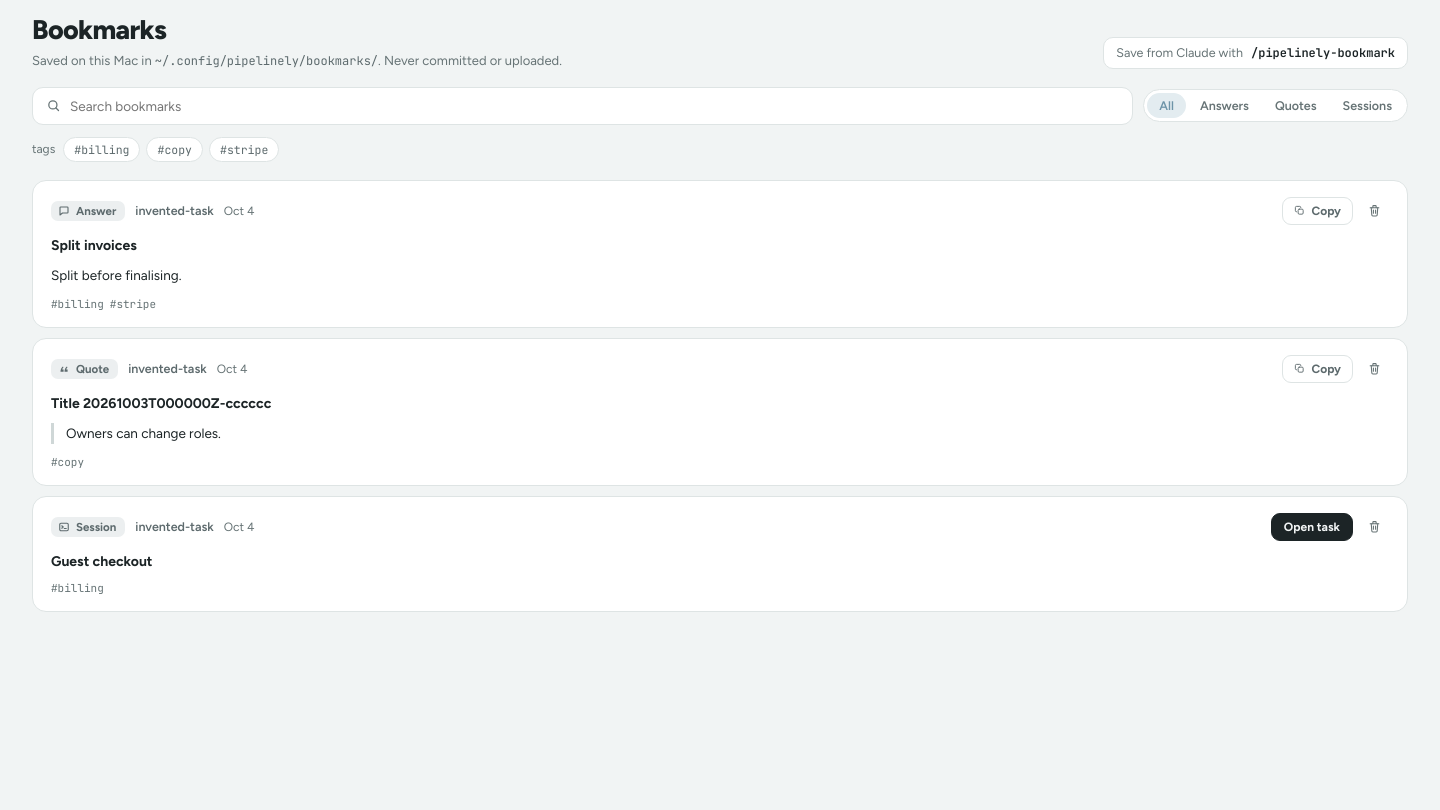
Test: BookmarksPage filters › kind, tags (all of them) and search combine
The image size is (1440, 810).
Click the button with test id "bookmarks-kind-filter-session". click: (1367, 106)
box: [1331,93,1404,118]
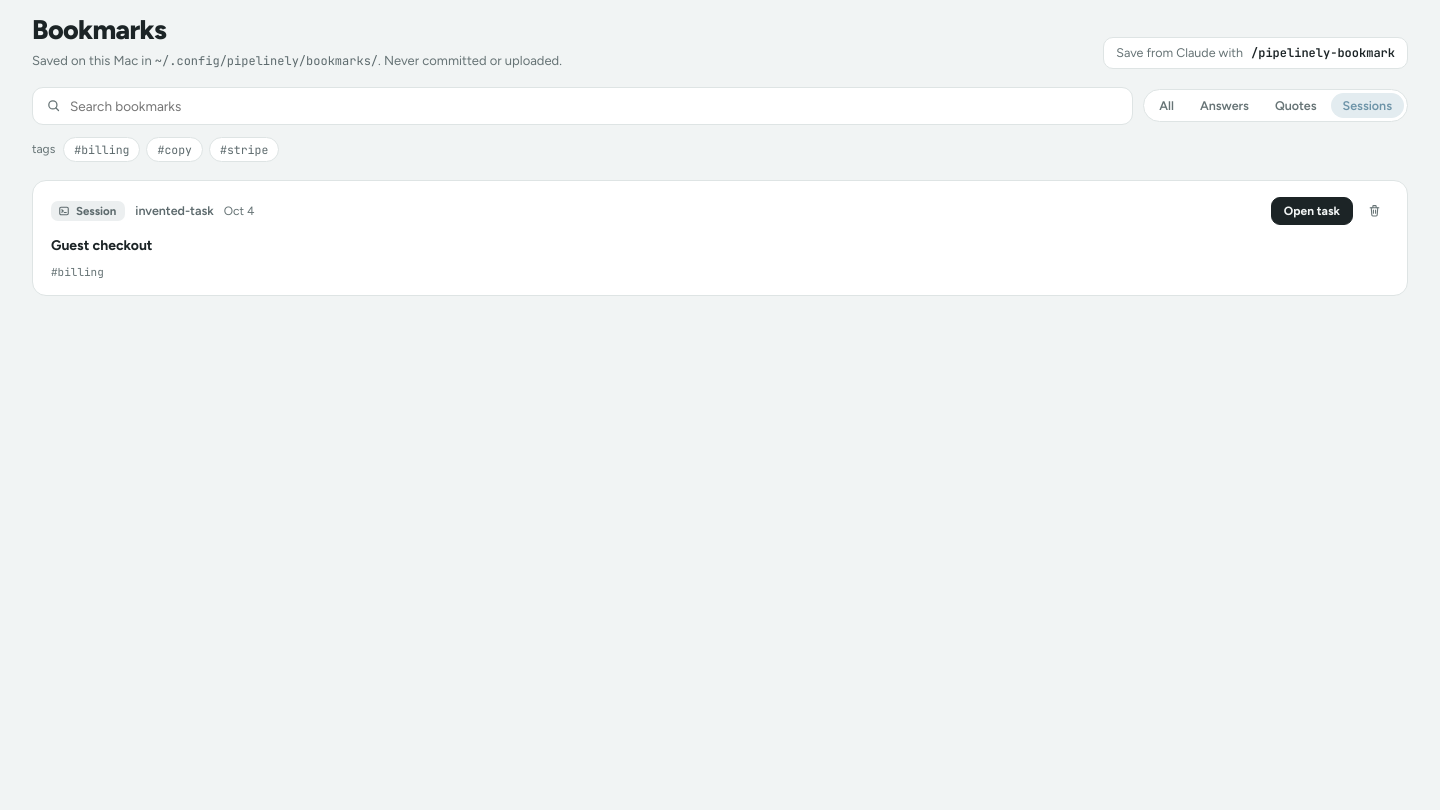
Click the button with test id "bookmarks-kind-filter-all". click: (1167, 106)
box: [1147,93,1186,118]
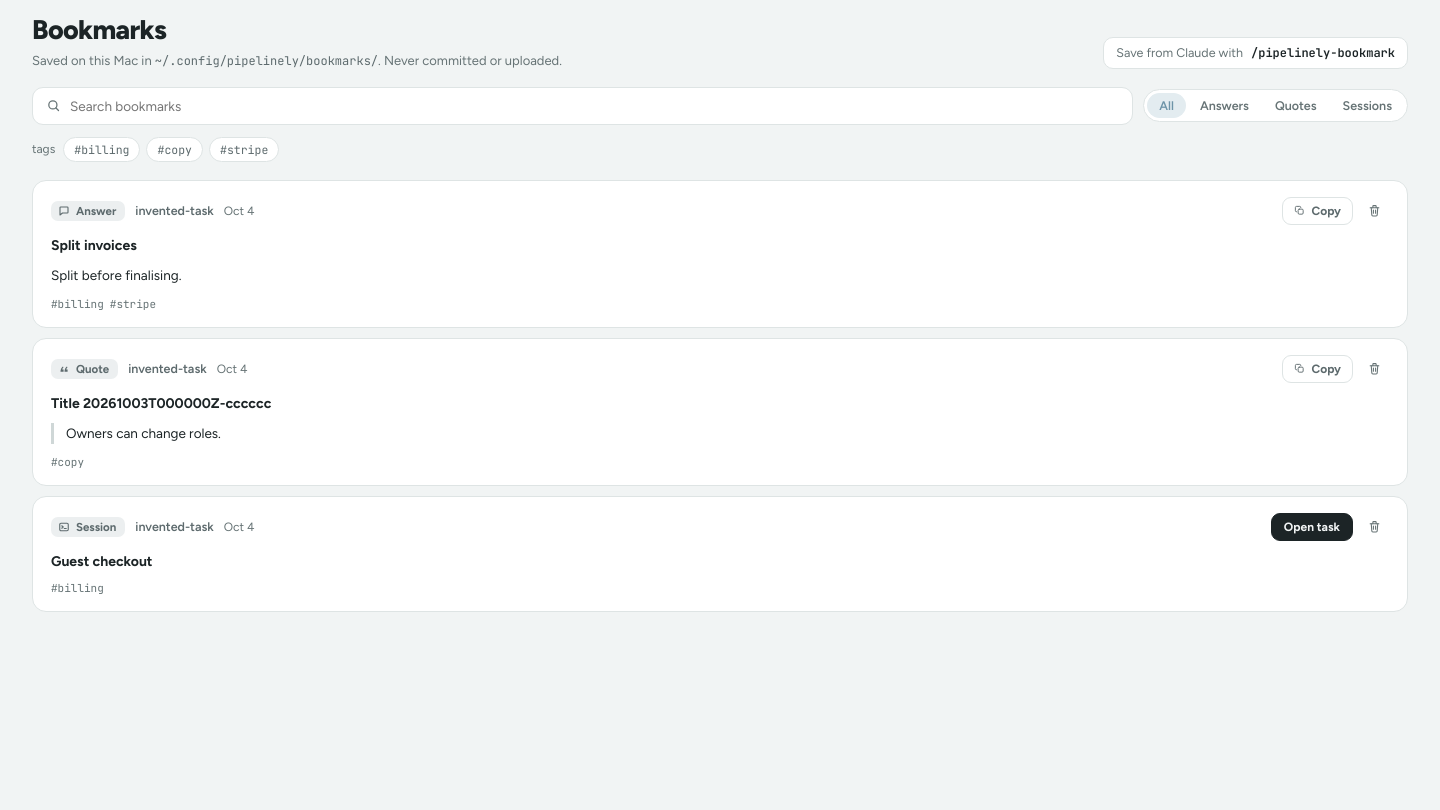
Click the button with test id "bookmarks-tag-filter" showing "#billing". click: (102, 149)
box: [63,137,140,162]
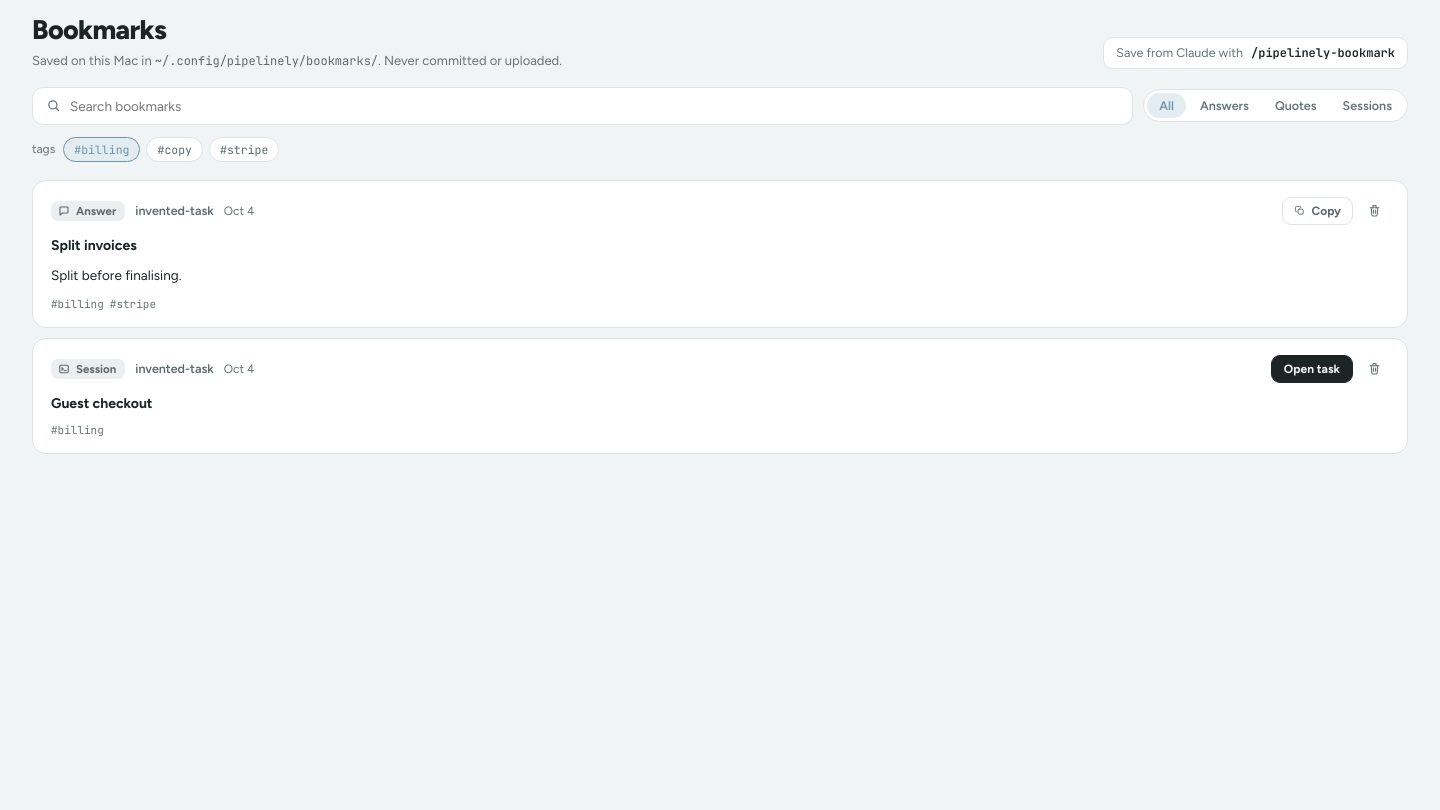
Click the button with test id "bookmarks-tag-filter" showing "#stripe". click: (244, 149)
box: [209,137,279,162]
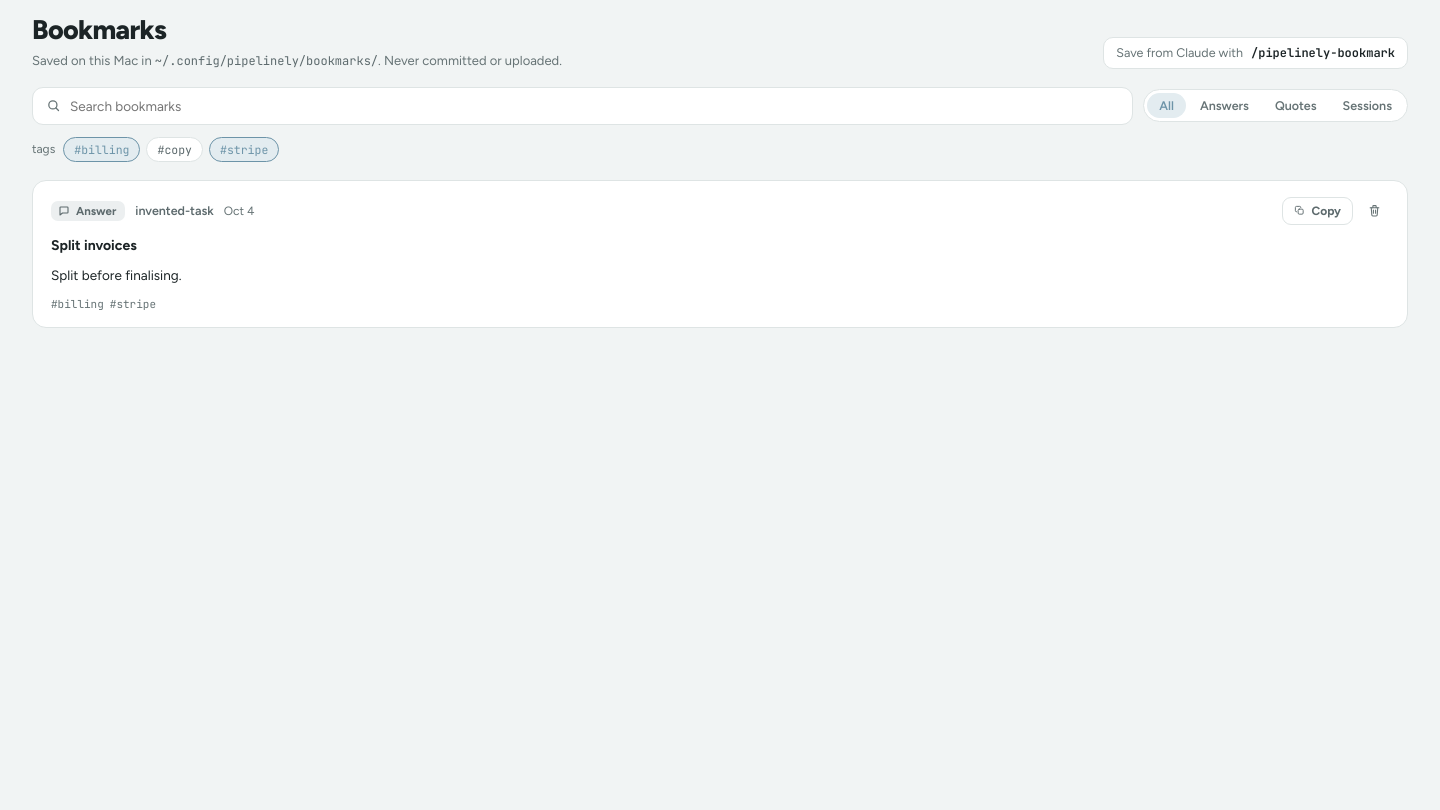
Check: the button with test id "bookmarks-tag-filter" is pressed, box [209,137,279,162]
Type "owners" into the search field with test id "bookmarks-search" showing "Search bookmarks". click: (595, 106)
box: [70,98,1119,114]
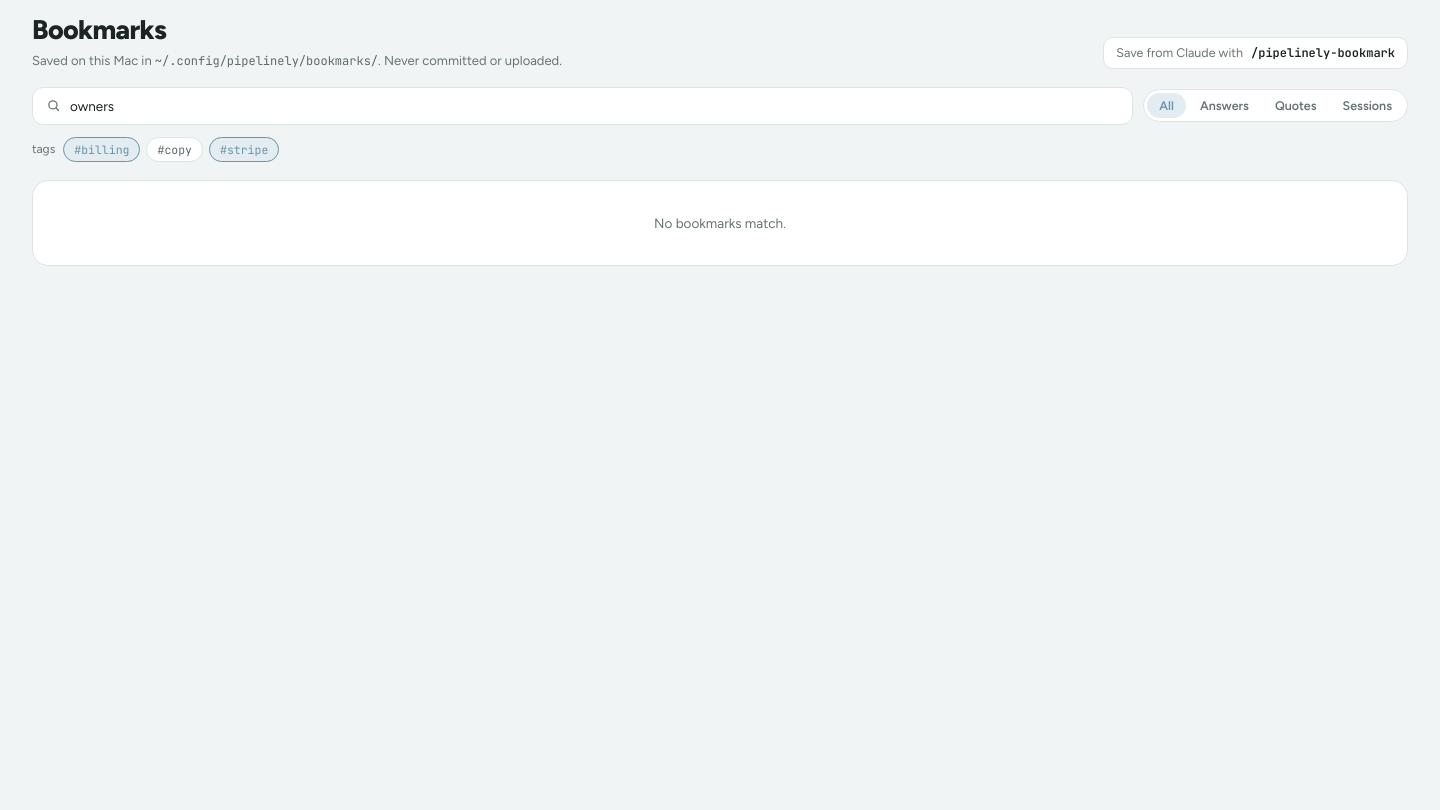
Check: the text "No bookmarks match." is shown, box [32,180,1408,266]
